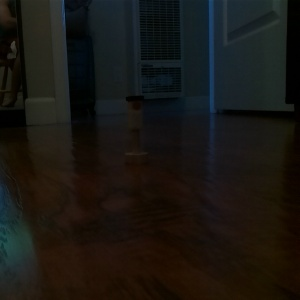traffic light red: (122, 93, 149, 163)
